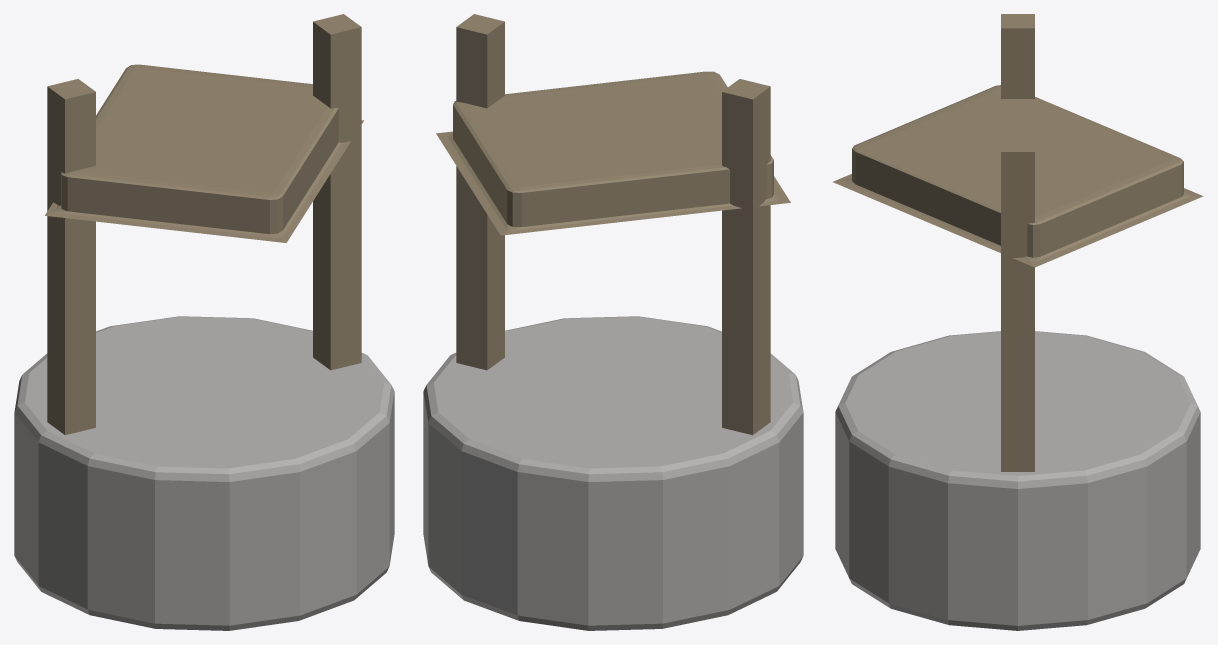
The model's file is well.glb.
3 views of the same model, side by side, from view 1: azimuth 30°, elevation 25°; view 2: azimuth 150°, elevation 25°; view 3: azimuth 270°, elevation 25° (orthographic). The views are drawn at different scales.
Visible parts, largest first — view 1: ring, roof, post_l, post_r; view 2: ring, roof, post_l, post_r; view 3: ring, roof, post_r, post_l.
Boxes of the visible parts, bbox=[...] form: ring: bbox=[14, 316, 394, 630]; roof: bbox=[45, 64, 363, 242]; post_l: bbox=[47, 79, 95, 435]; post_r: bbox=[313, 14, 361, 370]; ring: bbox=[423, 316, 803, 630]; roof: bbox=[436, 71, 790, 235]; post_l: bbox=[722, 79, 770, 435]; post_r: bbox=[456, 14, 504, 370]; ring: bbox=[835, 331, 1200, 630]; roof: bbox=[833, 85, 1203, 267]; post_r: bbox=[1001, 137, 1034, 471]; post_l: bbox=[1001, 14, 1034, 98].
Size of the model in its own units: 1.52 by 2.15 by 1.52.
